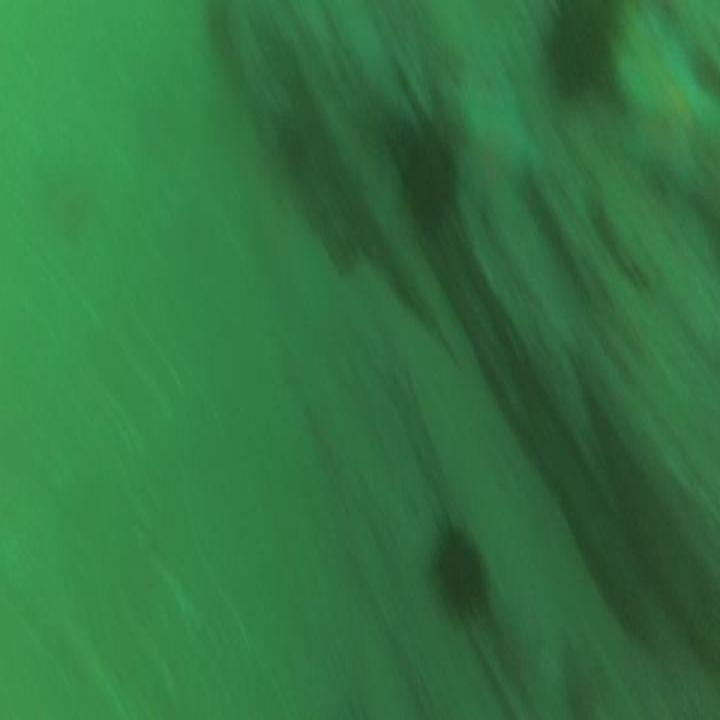echinus: (530, 4, 634, 135), (390, 107, 465, 240), (423, 505, 498, 633)
starfish: (616, 32, 720, 206), (455, 69, 542, 217)
